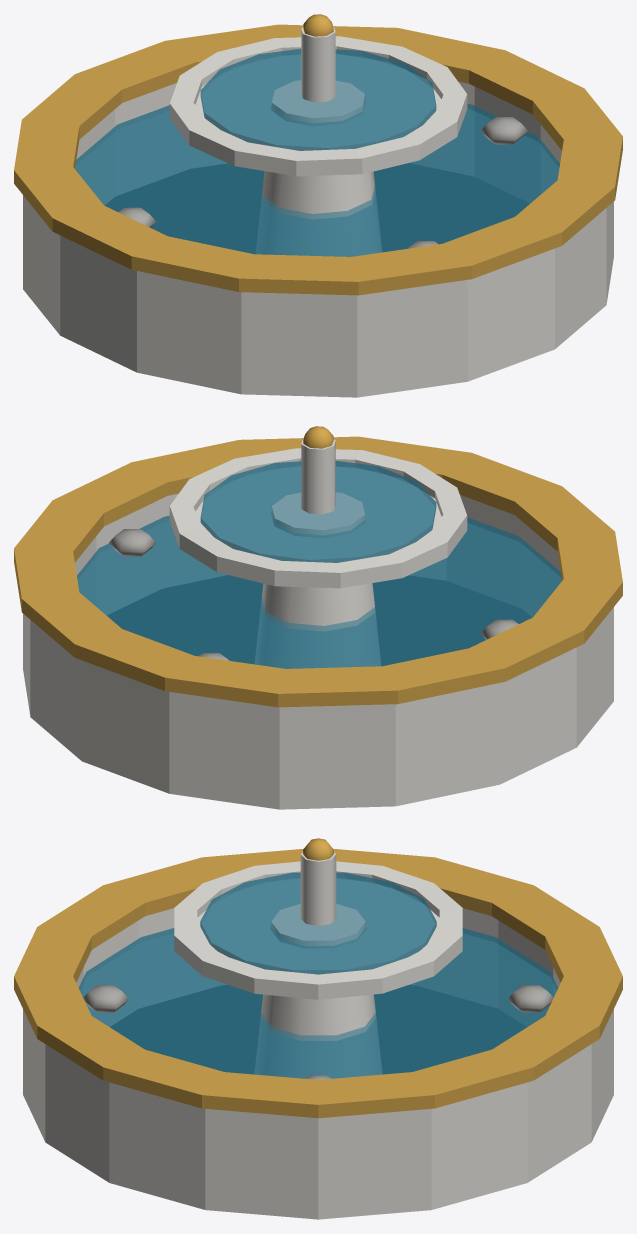
Rendered from fountain.glb.
3 views of the same model, one above another, from view 1: azimuth 30°, elevation 25°; view 2: azimuth 150°, elevation 25°; view 3: azimuth 270°, elevation 25° (orthographic).
Parts seen in each view (by area): view 1: fountain; view 2: fountain; view 3: fountain.
Boxes of the visible parts, x1,y1,x2,y2 form: fountain: [14, 14, 622, 397]; fountain: [14, 426, 622, 809]; fountain: [14, 838, 622, 1219].
Size of the model in its own units: 2.06 by 0.955 by 2.06.
